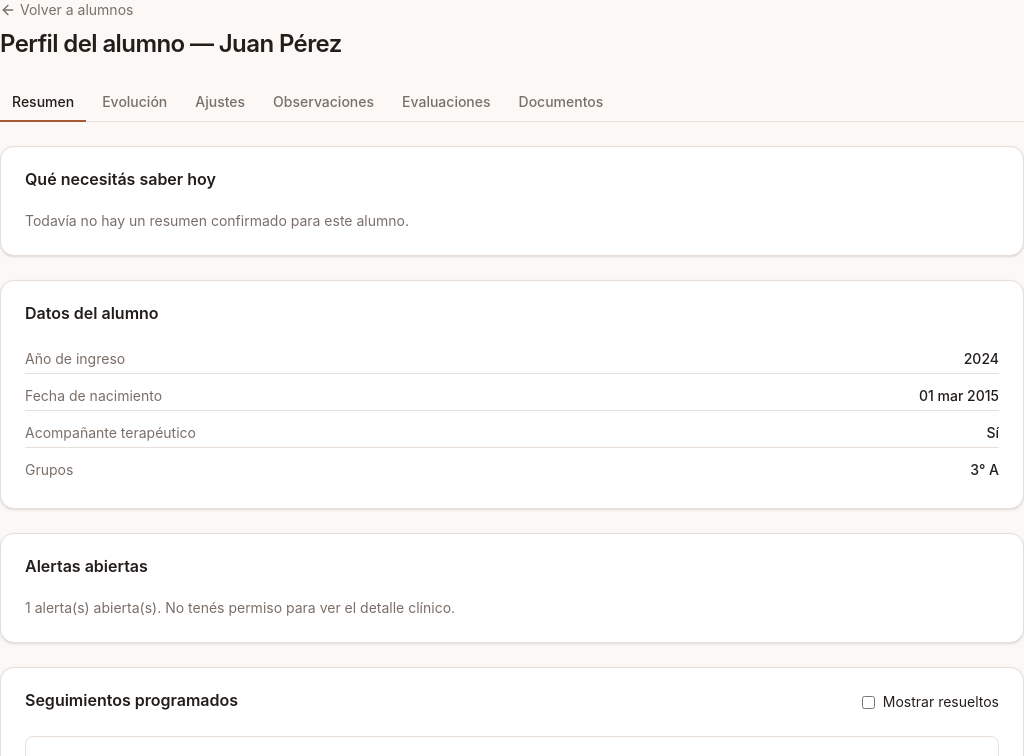
StudentTrackingPage › shows the overall average and per-subject performance
Step 1. Click the tab "Evaluaciones" → (446, 103), box [390,84,502,122]
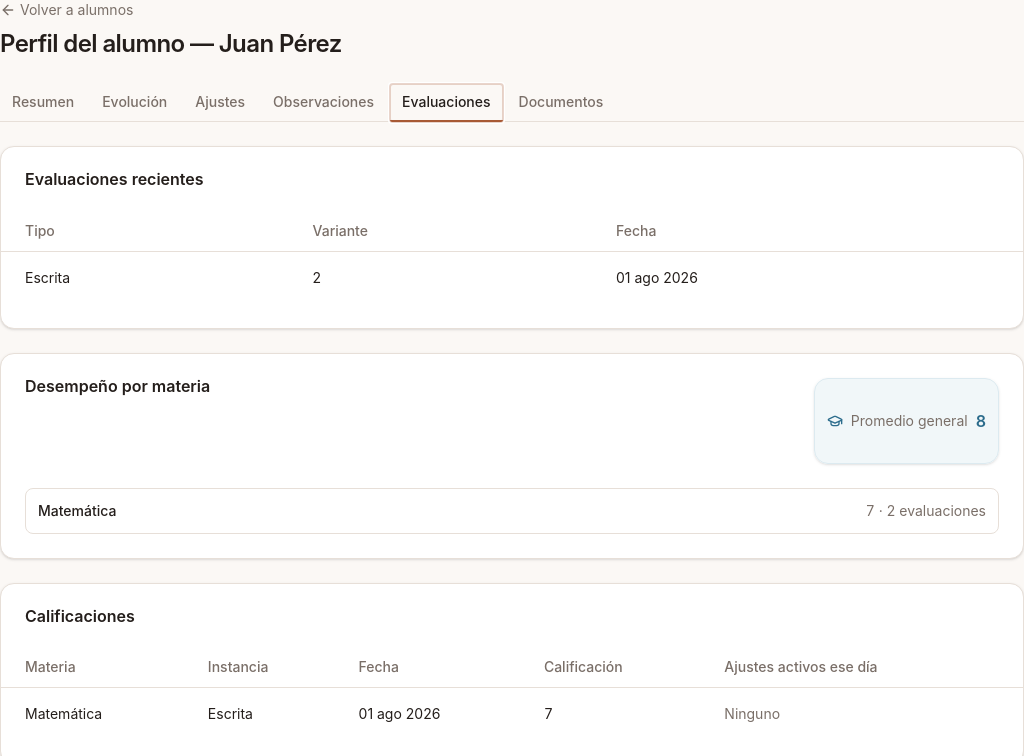
Now the text "Promedio general" is shown, box [851,410,968,430]
Now the heading "Desempeño por materia" is shown, box [25,378,210,394]
Now the text "Matemática" is shown, box [38,500,116,520]
